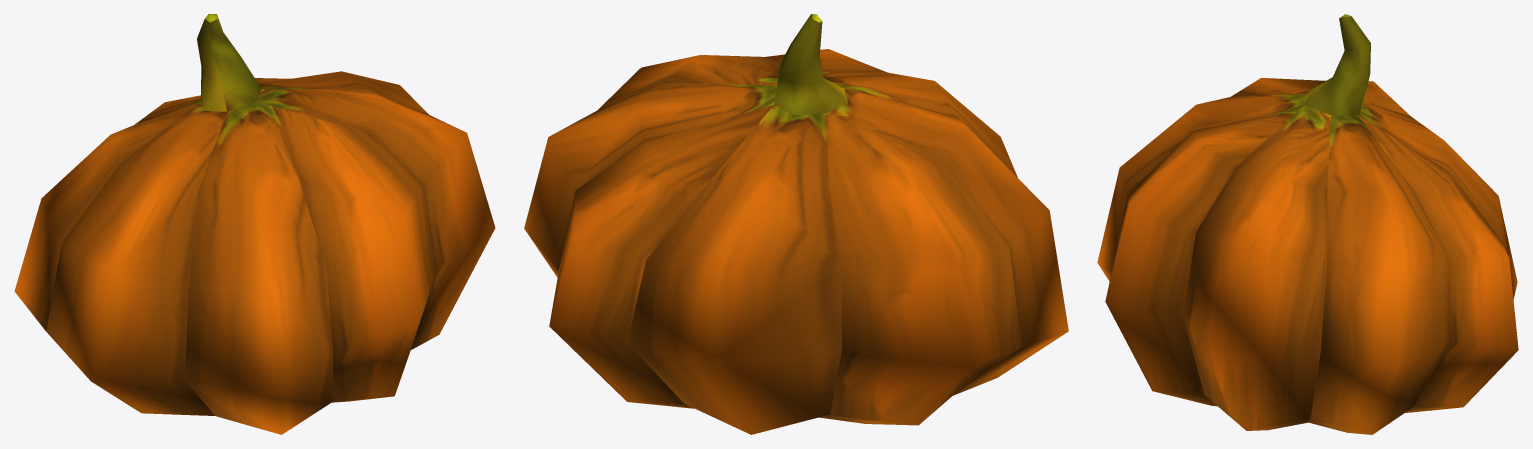
Rendered from ruraltown_pumpking_big_02.fbx.
3 renders of one model, left to right at view 1: azimuth 30°, elevation 25°; view 2: azimuth 150°, elevation 25°; view 3: azimuth 270°, elevation 25°, orthographic. The views are drawn at different scales.
Visible parts, largest first — view 1: ruraltown_pumpking_big_02; view 2: ruraltown_pumpking_big_02; view 3: ruraltown_pumpking_big_02.
Boxes of the visible parts, left/top/right/bottom form: ruraltown_pumpking_big_02: left=14, top=14, right=495, bottom=434; ruraltown_pumpking_big_02: left=524, top=14, right=1068, bottom=434; ruraltown_pumpking_big_02: left=1097, top=14, right=1518, bottom=434.
Bounding box in the file's own units: 1.3 × 1.07 × 1.13.
